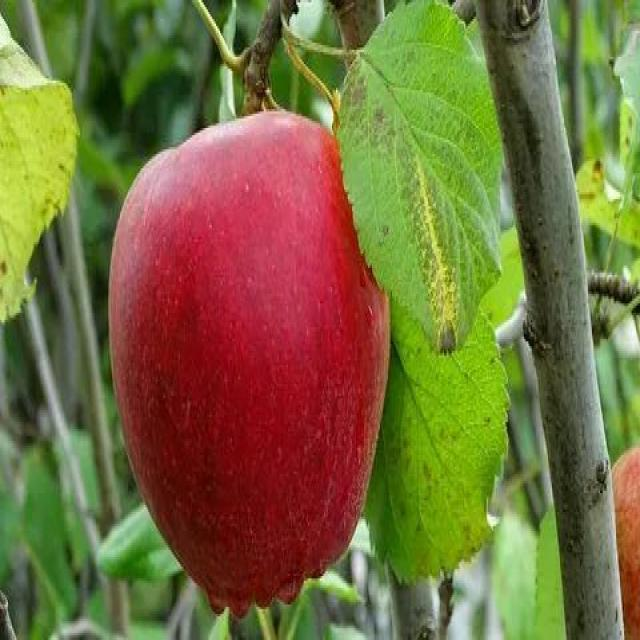Fresh Apple: (115, 120, 358, 593)
